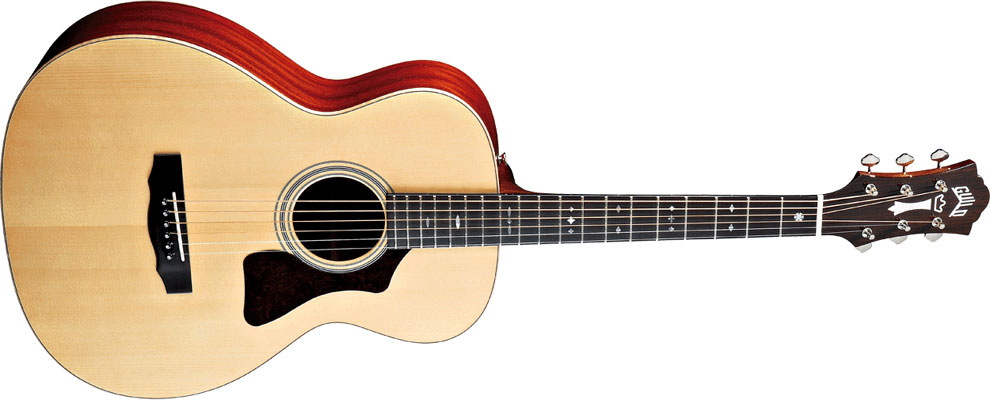guitar: (1, 1, 950, 400)
